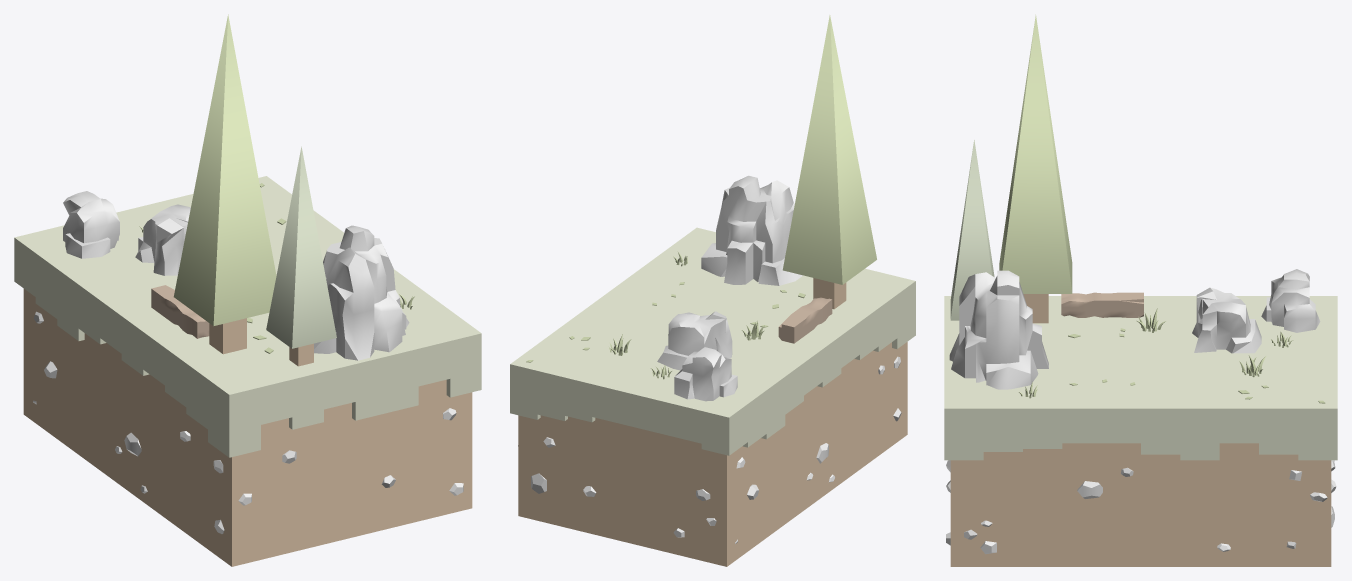
The model's file is PlattformStartOne.dae.
3 views of the same model, side by side, from view 1: azimuth 30°, elevation 25°; view 2: azimuth 150°, elevation 25°; view 3: azimuth 270°, elevation 25° (orthographic). The views are drawn at different scales.
Parts seen in each view (by area): view 1: Plattform-Brown, Plattform-LightGreen, Tree-Green, Rock.001, Tree-DarkGreen, Plattform-Grey, Tree-Brown, Trunk; view 2: Plattform-LightGreen, Plattform-Brown, Tree-Green, Rock.001, Plattform-Grey, Trunk, Tree-Brown, Grass.001; view 3: Plattform-LightGreen, Plattform-Brown, Rock.001, Tree-Green, Tree-DarkGreen, Trunk, Plattform-Grey, Grass.001, Tree-Brown.
Boxes of the visible parts, left/top/right/bottom form: Plattform-Brown: left=23, top=289, right=472, bottom=566; Plattform-LightGreen: left=14, top=176, right=481, bottom=457; Tree-Green: left=173, top=14, right=276, bottom=326; Rock.001: left=63, top=191, right=409, bottom=360; Tree-DarkGreen: left=266, top=146, right=336, bottom=348; Plattform-Grey: left=33, top=311, right=463, bottom=533; Tree-Brown: left=209, top=318, right=313, bottom=366; Trunk: left=151, top=285, right=209, bottom=338; Plattform-LightGreen: left=510, top=227, right=915, bottom=455; Plattform-Brown: left=518, top=342, right=907, bottom=566; Tree-Green: left=782, top=15, right=876, bottom=284; Rock.001: left=657, top=175, right=802, bottom=401; Plattform-Grey: left=518, top=356, right=901, bottom=543; Trunk: left=778, top=297, right=832, bottom=343; Tree-Brown: left=813, top=278, right=846, bottom=309; Grass.001: left=609, top=252, right=764, bottom=379; Plattform-LightGreen: left=944, top=296, right=1337, bottom=460; Plattform-Brown: left=950, top=443, right=1331, bottom=566; Rock.001: left=949, top=269, right=1320, bottom=389; Tree-Green: left=999, top=14, right=1072, bottom=293; Tree-DarkGreen: left=950, top=140, right=994, bottom=320; Trunk: left=1061, top=292, right=1143, bottom=317; Plattform-Grey: left=946, top=460, right=1336, bottom=554; Grass.001: left=1019, top=308, right=1293, bottom=398; Tree-Brown: left=1023, top=294, right=1048, bottom=323.
Bounding box in the file's own units: 215 × 310 × 404.
